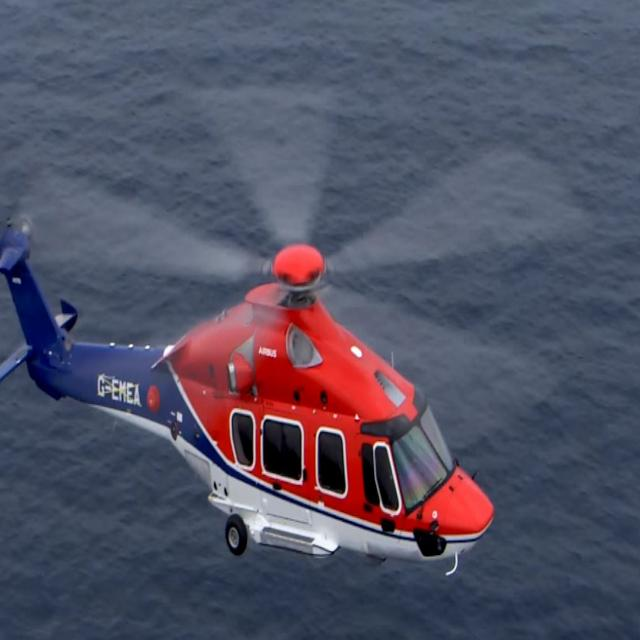helicopter: (1, 81, 534, 640)
